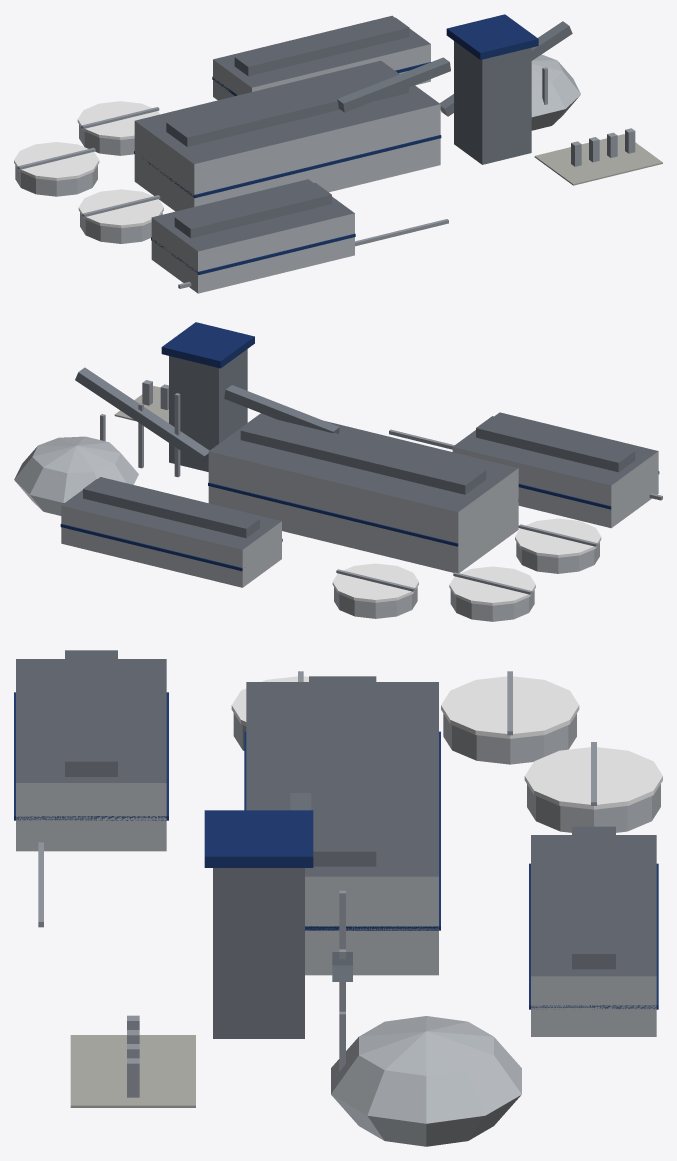
The model's file is planta_concentradora.obj.
3 renders of one model, top to bottom at view 1: azimuth 30°, elevation 25°; view 2: azimuth 150°, elevation 25°; view 3: azimuth 270°, elevation 25°, orthographic. The views are drawn at different scales.
Parts seen in each view (by area): view 1: planta_concentradora; view 2: planta_concentradora; view 3: planta_concentradora.
Boxes of the visible parts, x1,y1,x2,y2 form: planta_concentradora: (14,14,662,293); planta_concentradora: (14,322,662,621); planta_concentradora: (14,650,662,1146).
Bounding box in the file's own units: 236 × 62.2 × 155.
